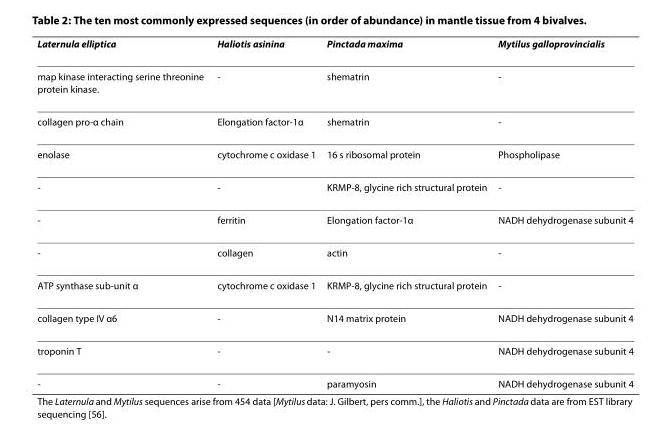table: (36, 36, 632, 389)
table column: (36, 36, 209, 389), (320, 36, 491, 389), (491, 36, 632, 389), (209, 36, 320, 389)
table column header: (36, 36, 632, 59)
table row: (36, 59, 632, 104), (36, 104, 632, 137), (36, 137, 632, 170), (36, 202, 632, 235), (36, 235, 632, 268), (36, 268, 632, 301), (36, 333, 632, 366), (36, 170, 632, 202), (36, 301, 632, 333), (36, 36, 632, 59), (36, 366, 632, 389)
